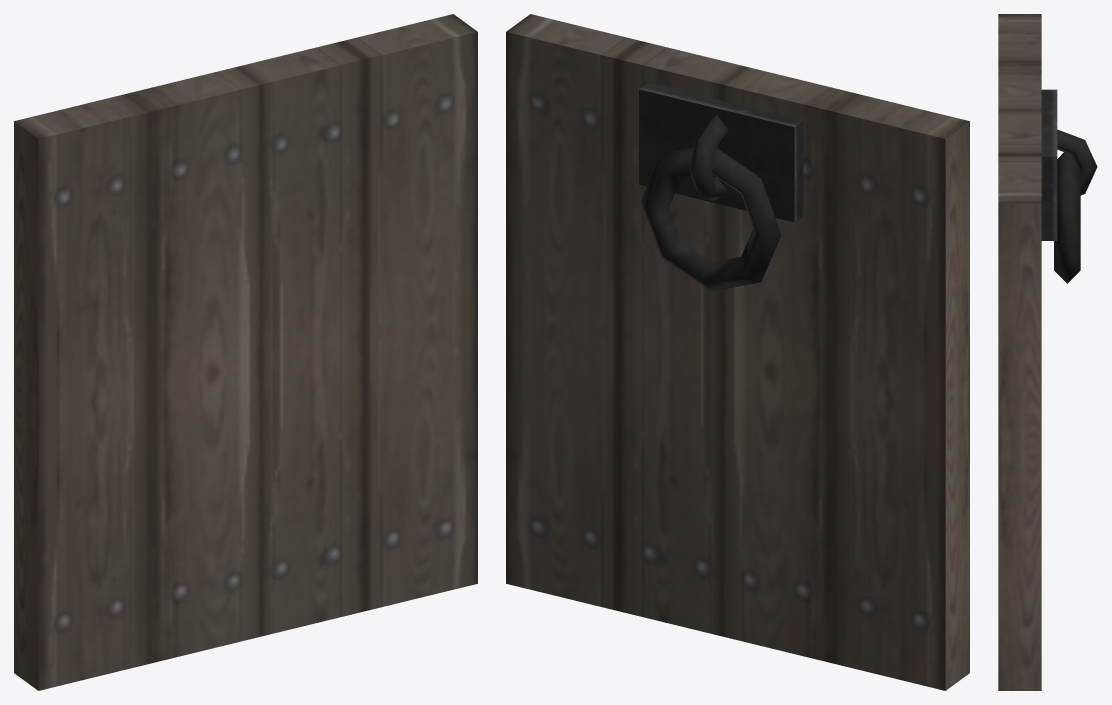
Rendered from Trap_Door_Door.fbx.
The picture shows the model from 3 angles, left to right: view 1: azimuth 30°, elevation 25°; view 2: azimuth 150°, elevation 25°; view 3: azimuth 270°, elevation 25°; orthographic projection. The views are drawn at different scales.
Visible parts, largest first — view 1: Trap_Door_Door; view 2: Trap_Door_Door; view 3: Trap_Door_Door.
Boxes of the visible parts, <box> form: Trap_Door_Door: <box>14,14,477,690</box>; Trap_Door_Door: <box>506,14,969,690</box>; Trap_Door_Door: <box>998,14,1097,690</box>.
Bounding box in the file's own units: 1.59 × 1.91 × 0.351.
